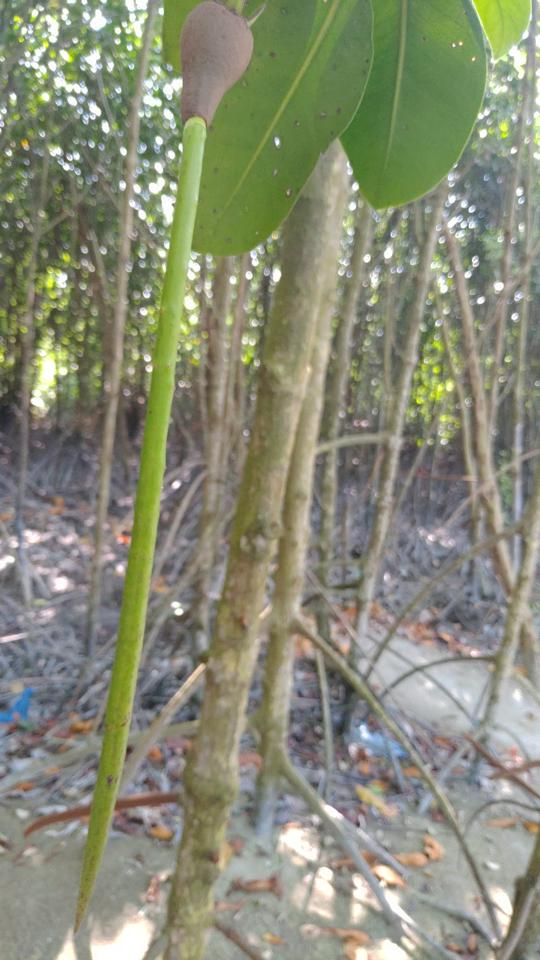setengah matang: (65, 3, 269, 943)
